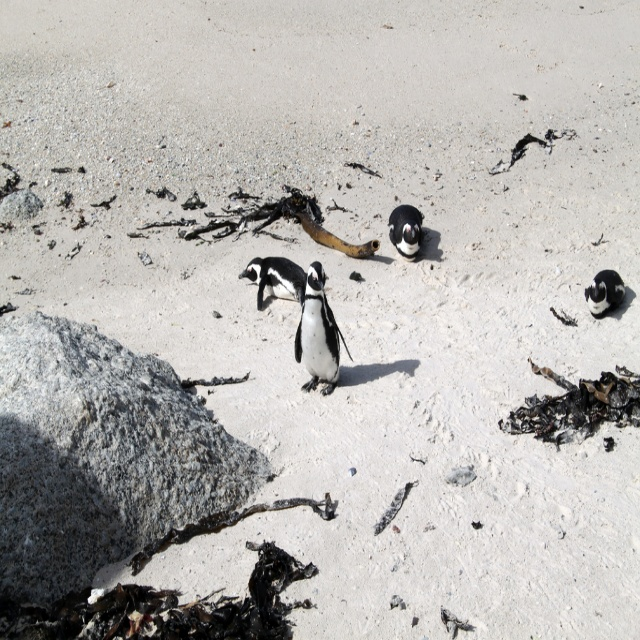Penguin: (292, 256, 354, 397), (237, 256, 306, 312), (387, 205, 428, 261), (584, 265, 626, 318)
